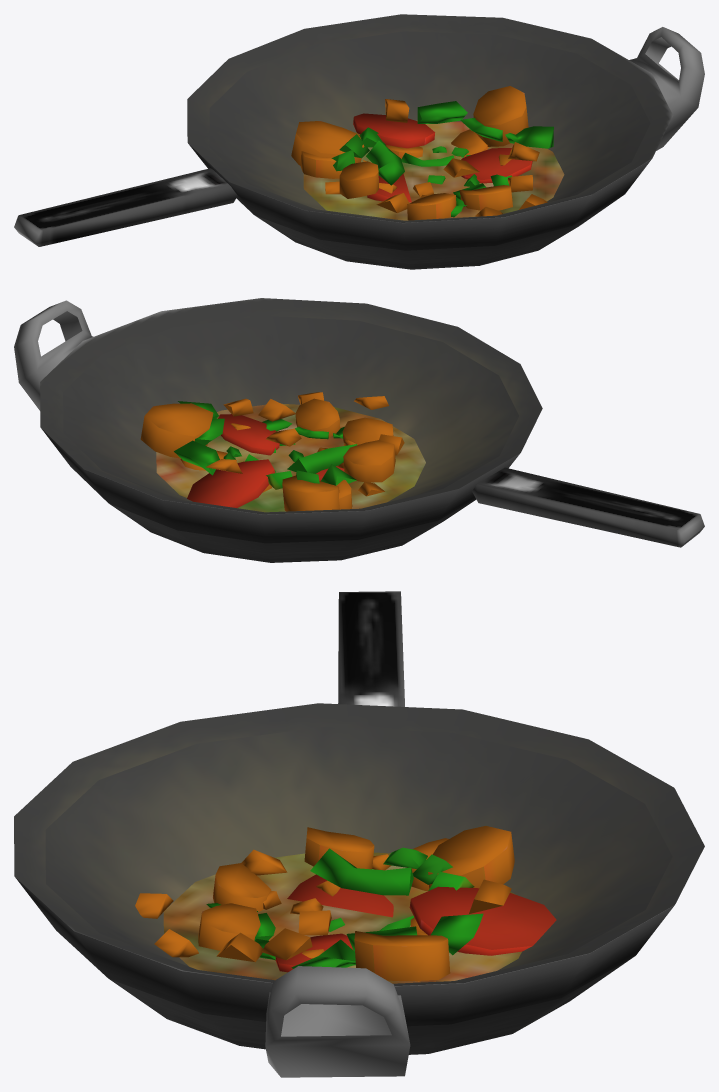
File: Wok_StirFry.fbx
3 views of the same model, one above another, from view 1: azimuth 30°, elevation 25°; view 2: azimuth 150°, elevation 25°; view 3: azimuth 270°, elevation 25° (orthographic). The views are drawn at different scales.
Visible parts, largest first — view 1: Wokpan; view 2: Wokpan; view 3: Wokpan.
Boxes of the visible parts, bbox=[...] form: Wokpan: bbox=[14, 14, 704, 269]; Wokpan: bbox=[14, 298, 704, 562]; Wokpan: bbox=[14, 591, 704, 1077].
Size of the model in its own units: 86.2 by 14.75 by 55.5.
